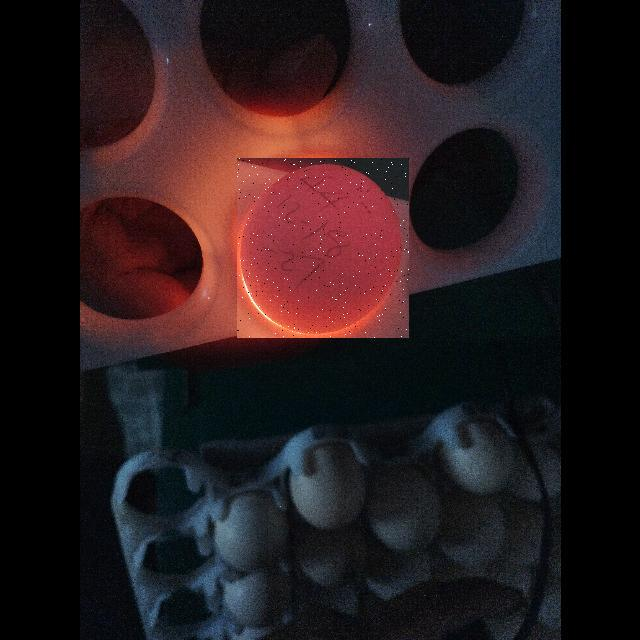Infertile: (237, 158, 409, 338)
